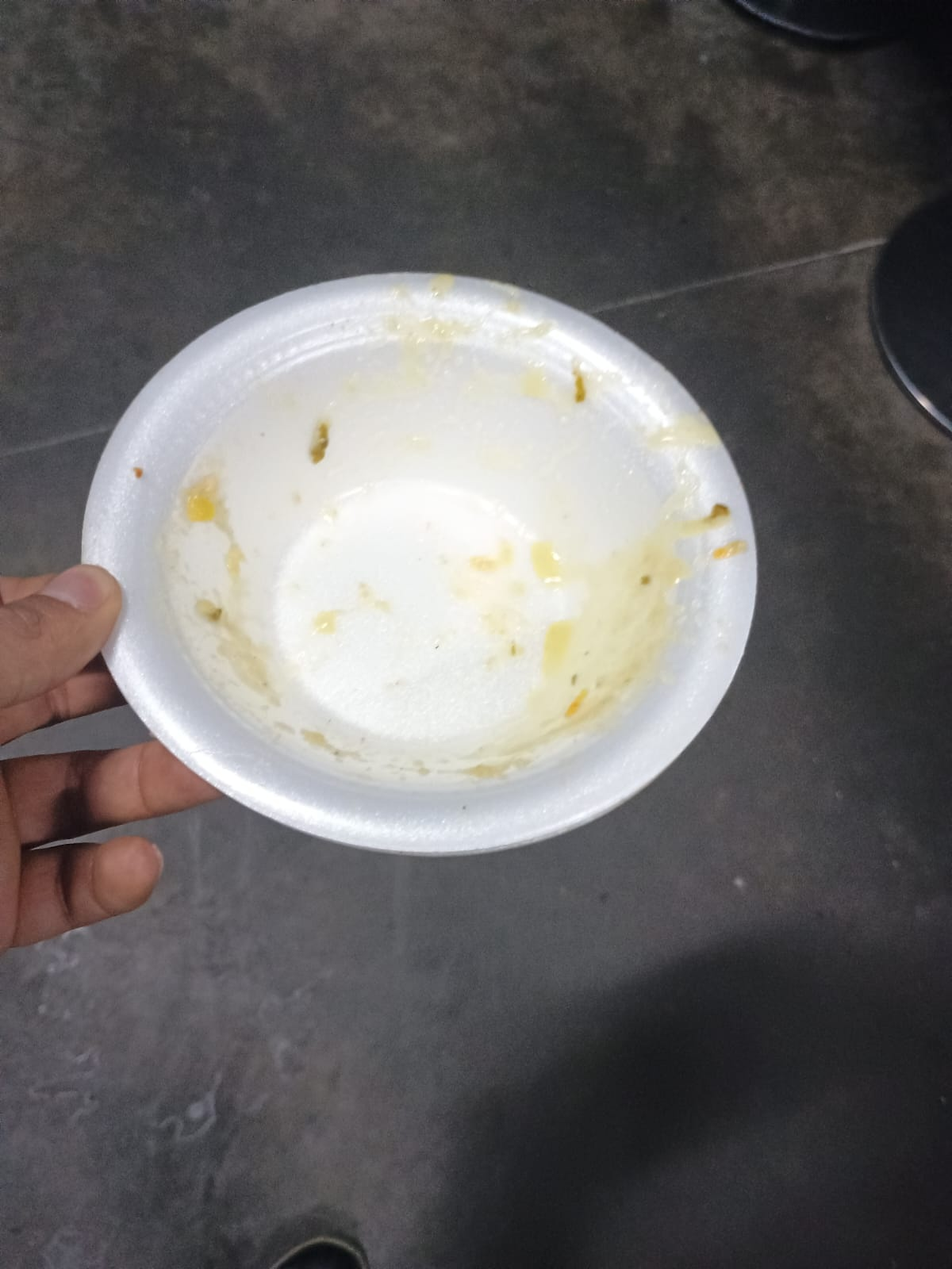Ordinario: (76, 271, 758, 858)
